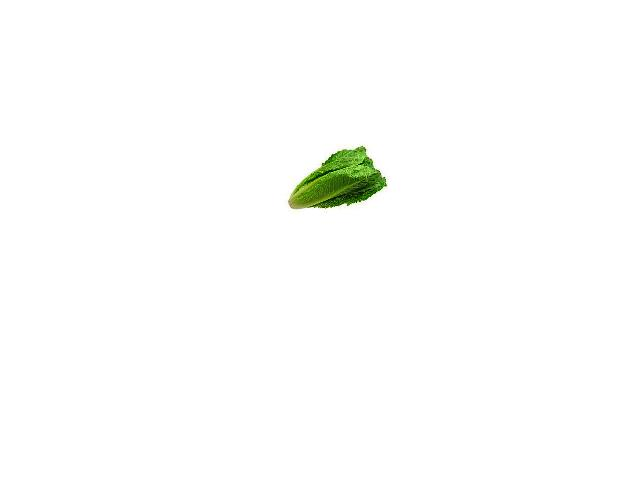lettuce: (279, 145, 386, 210)
